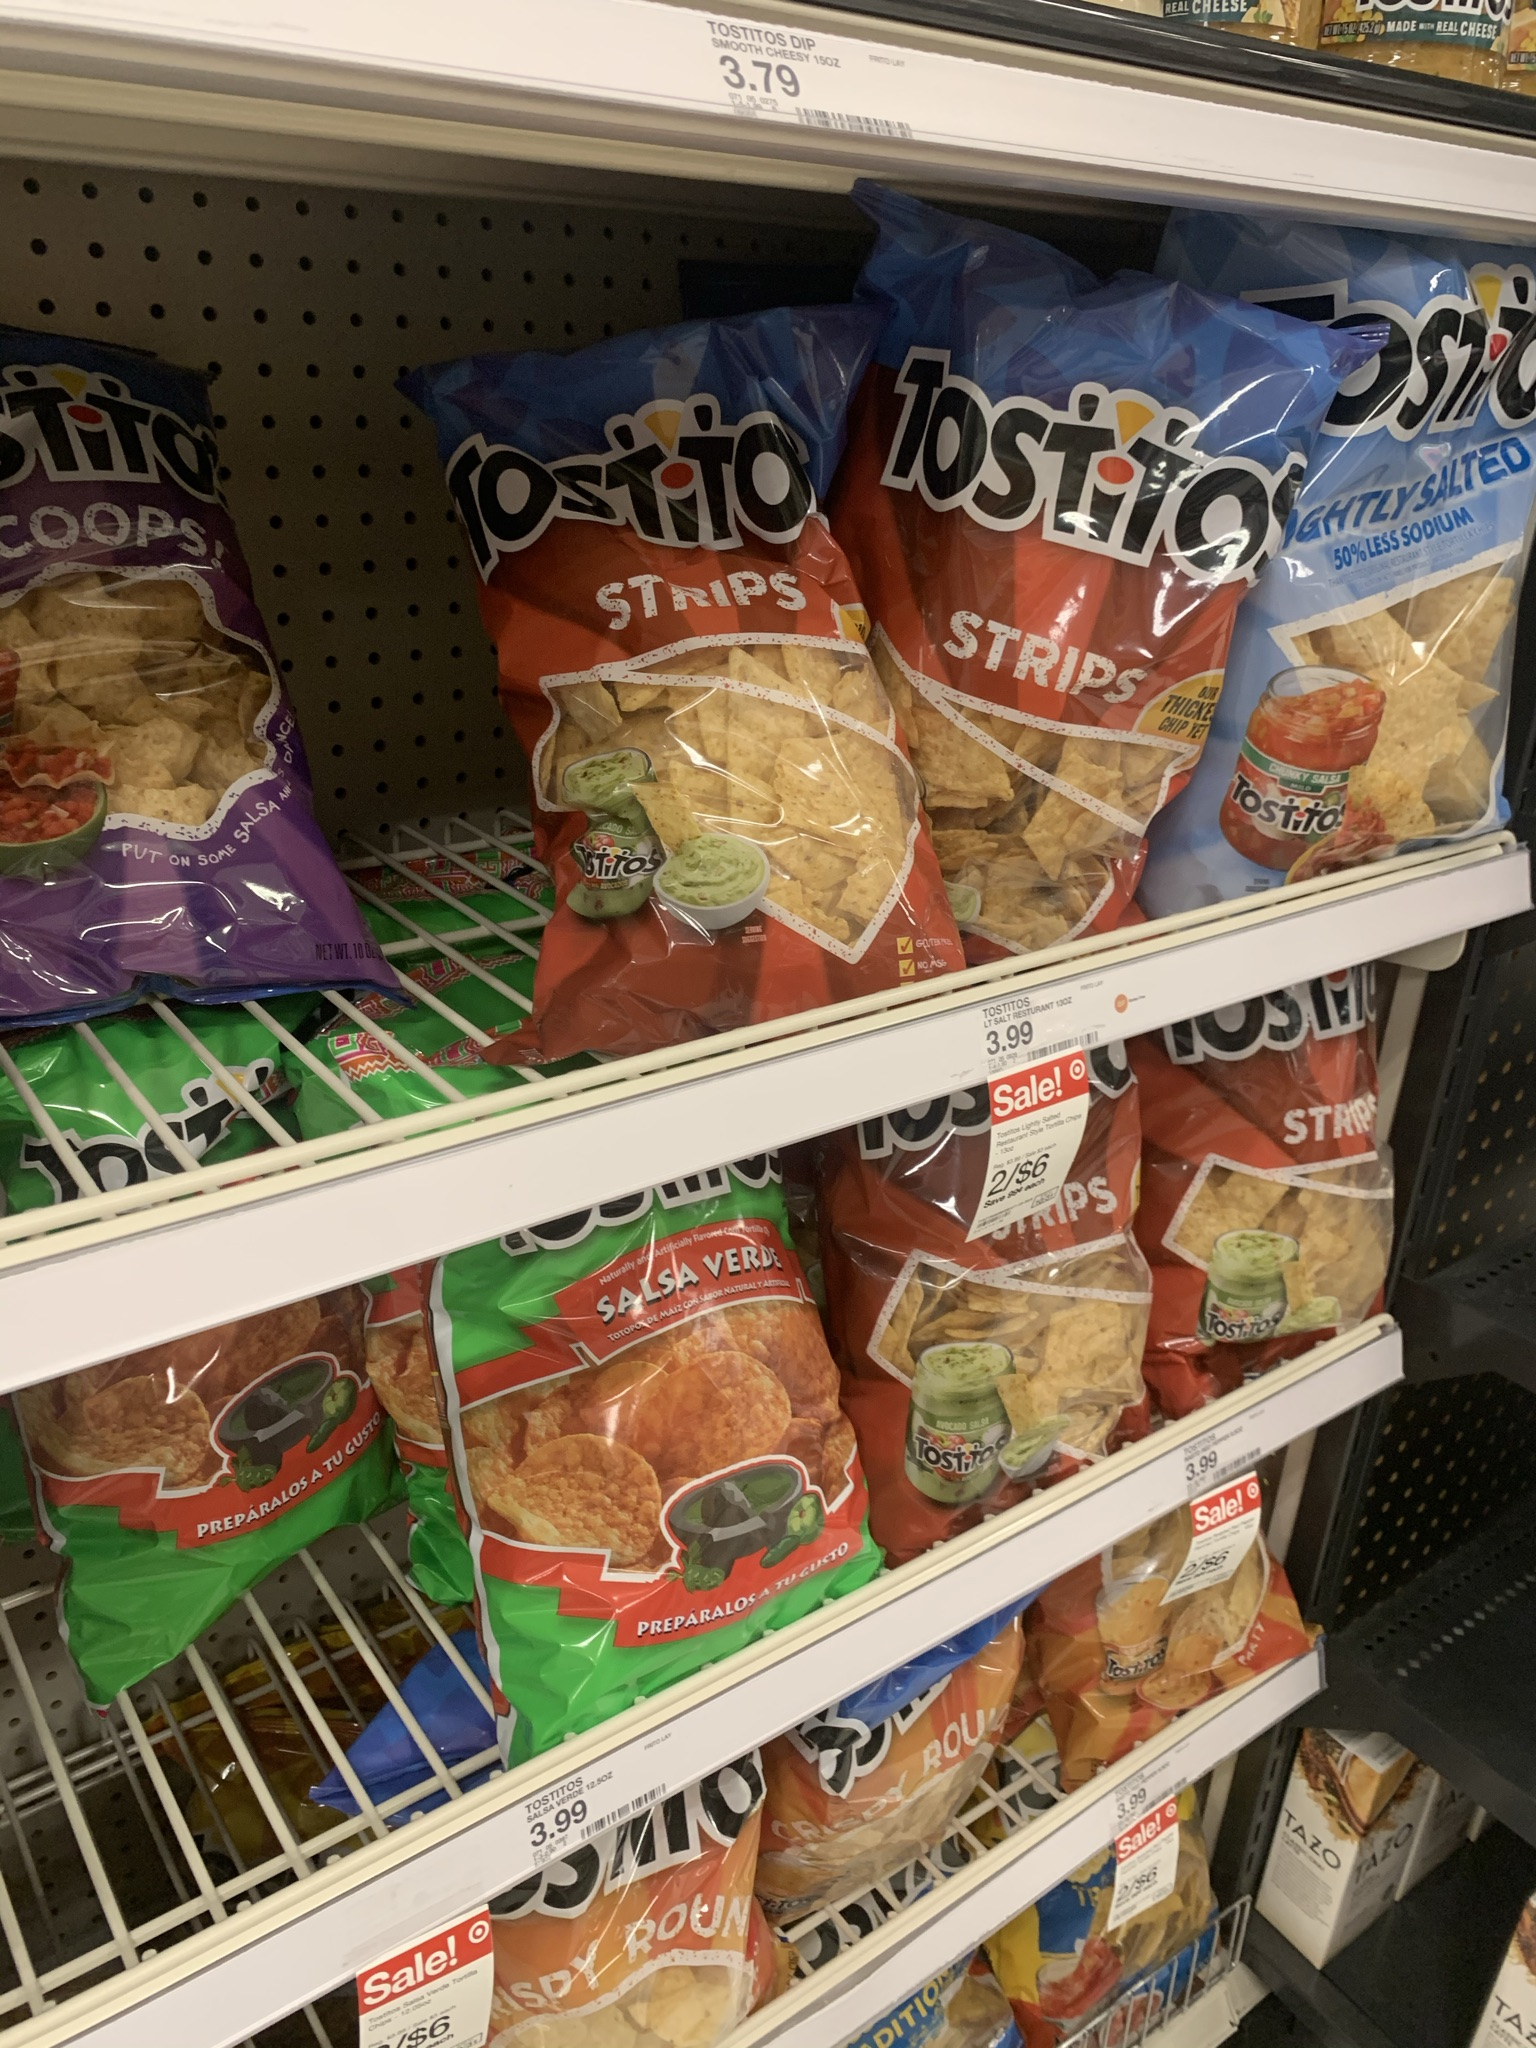tostitos chips: (447, 347, 963, 992), (2, 348, 342, 935), (913, 234, 1149, 948), (466, 1238, 897, 1619), (839, 1129, 1162, 1426), (1307, 247, 1434, 834), (1179, 1021, 1397, 1288), (552, 1861, 762, 2021), (794, 1734, 1004, 1811)
